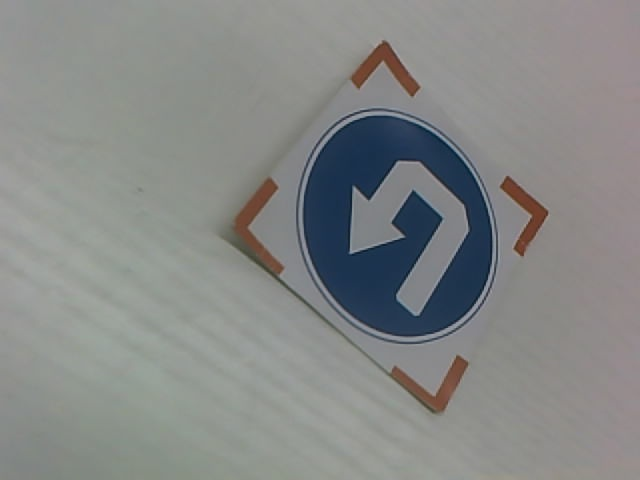turn_around: (266, 102, 515, 344)
